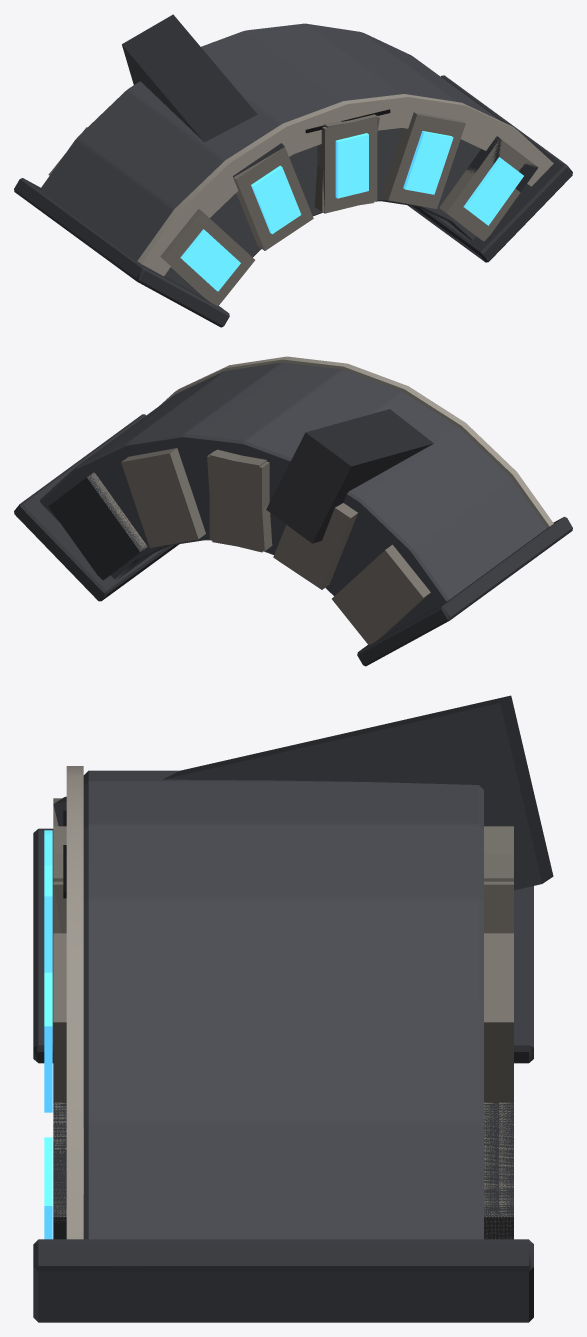
Rendered from nvg_cmp_containment_ring_segment_a.glb.
The picture shows the model from 3 angles, top to bottom: view 1: azimuth 30°, elevation 25°; view 2: azimuth 150°, elevation 25°; view 3: azimuth 270°, elevation 25°; orthographic projection. The views are drawn at different scales.
Visible parts, largest first — view 1: mesh_heavy, mesh_intact, mesh_light; view 2: mesh_heavy, mesh_intact, mesh_light; view 3: mesh_heavy, mesh_intact, mesh_light.
Part boxes in pixels (<box>): mesh_heavy: <box>14,14,572,327</box>; mesh_intact: <box>48,112,537,306</box>; mesh_light: <box>14,94,529,327</box>; mesh_heavy: <box>14,356,572,666</box>; mesh_intact: <box>87,448,430,645</box>; mesh_light: <box>123,357,572,665</box>; mesh_heavy: <box>33,695,553,1322</box>; mesh_intact: <box>53,798,513,1239</box>; mesh_light: <box>33,766,533,1238</box>.
Size of the model in its own units: 1.21 by 0.5615 by 0.6235.
